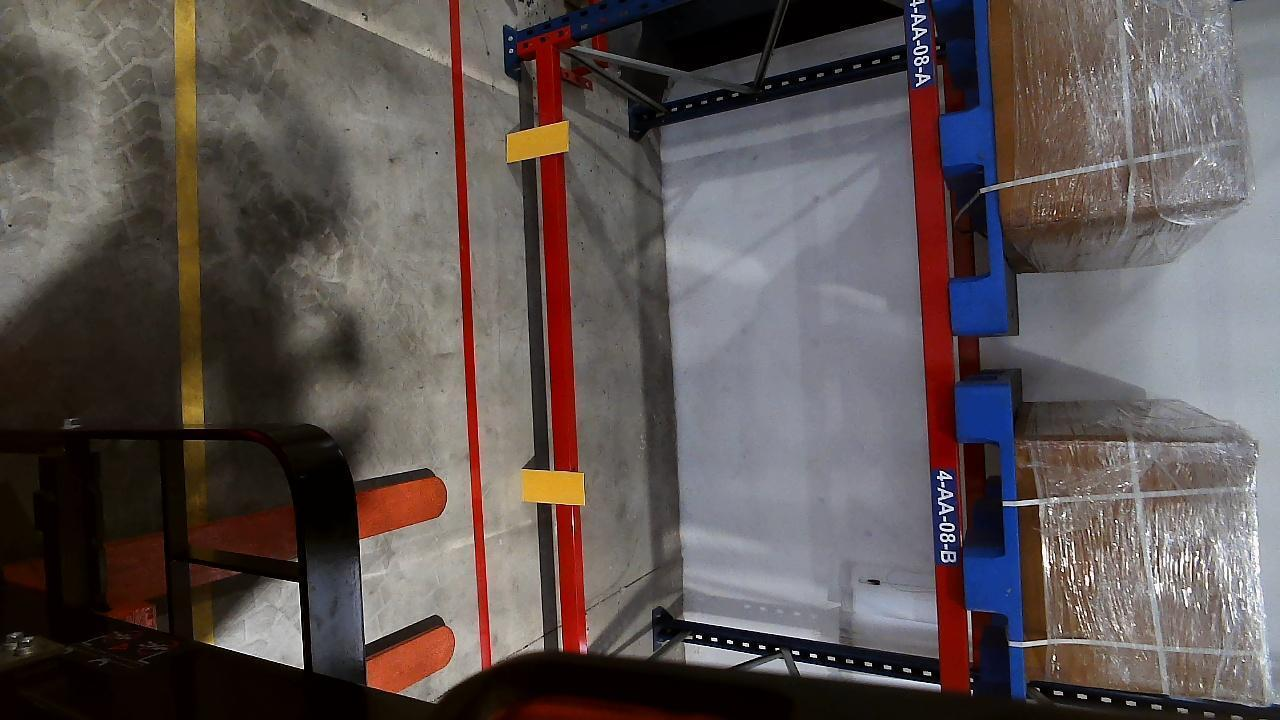red_line: (448, 0, 499, 662)
yellow_line: (171, 2, 206, 425)
